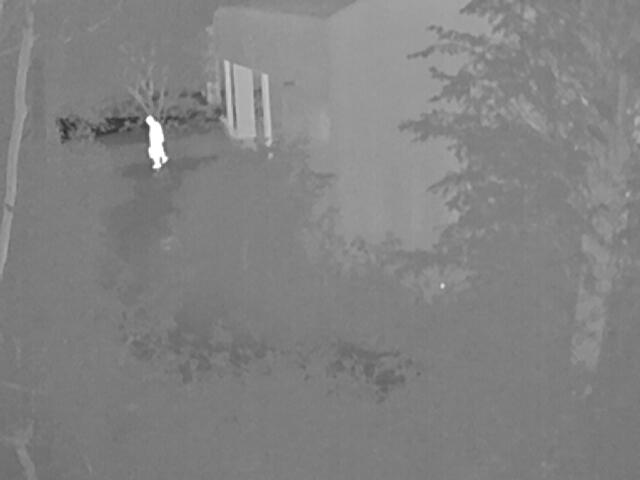person: (142, 114, 167, 169)
